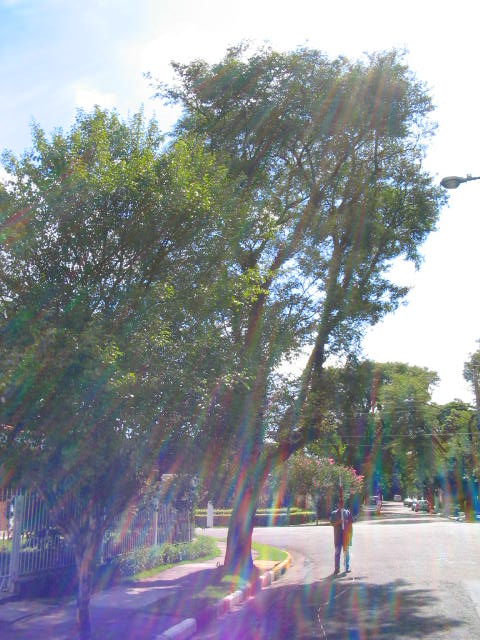crown: (146, 42, 453, 383), (5, 103, 269, 479)
stem: (208, 468, 267, 574), (67, 555, 107, 640)
stick: (336, 471, 350, 575)
tree: (146, 40, 453, 574), (2, 101, 270, 640)
